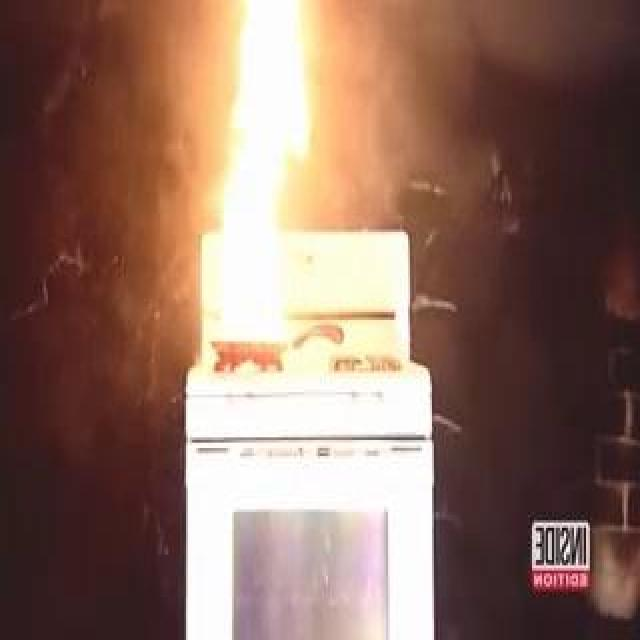Fire: (192, 3, 324, 357)
